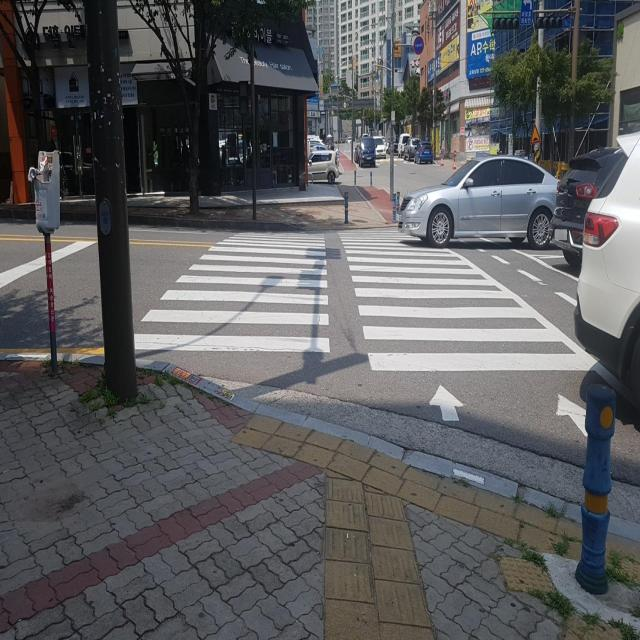횡단보도: (132, 224, 595, 438)
